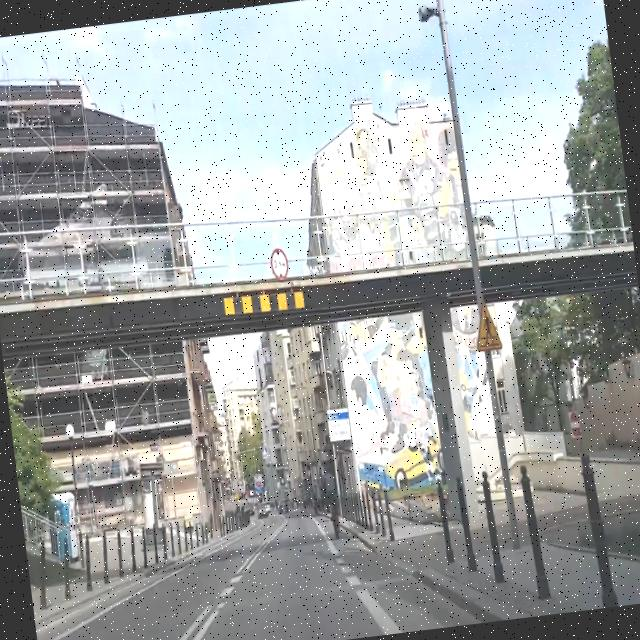Zakaz wjazdu: (567, 409, 582, 438)
